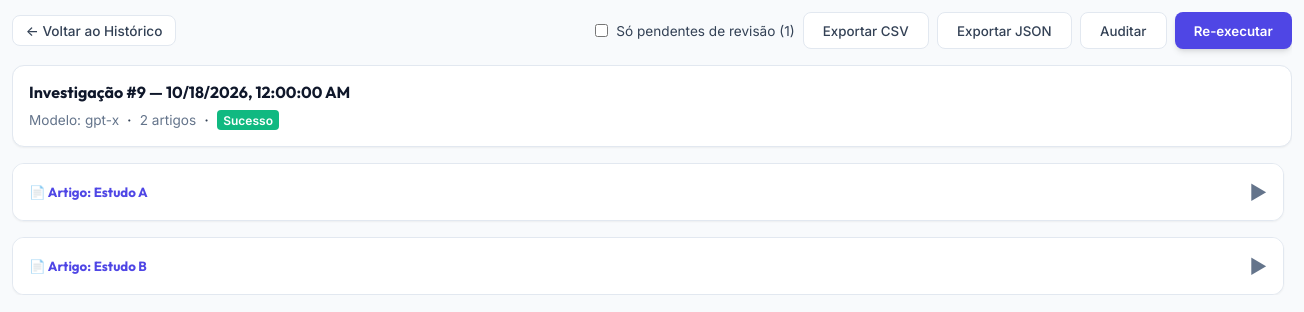
InvestigationDetailView, reviewing AI answers (#47) › counts only answers that came back and nobody reviewed, and can show just those
Step 1. Click the checkbox labelled "Só pendentes de revisão (1)" → click(601, 31), box [595, 24, 608, 37]
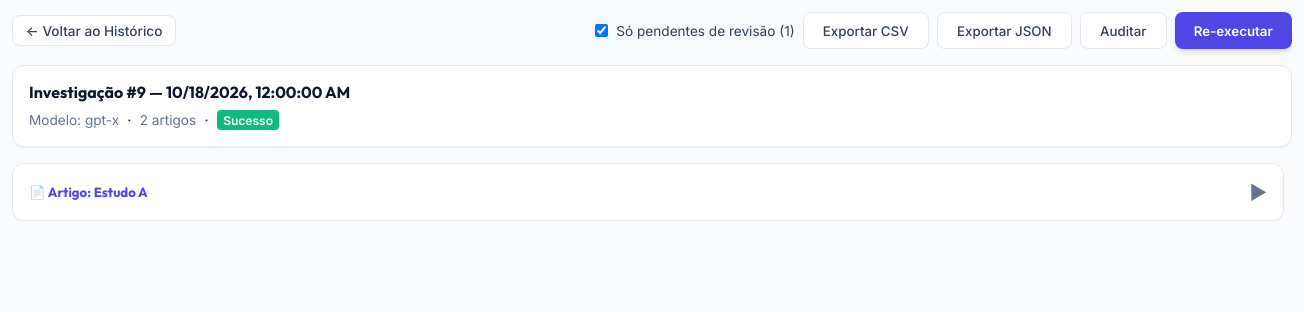
Expected: the heading "📄 Artigo: Estudo A" is shown, [29, 184, 148, 200]
Expected: the heading "Estudo B" is gone
